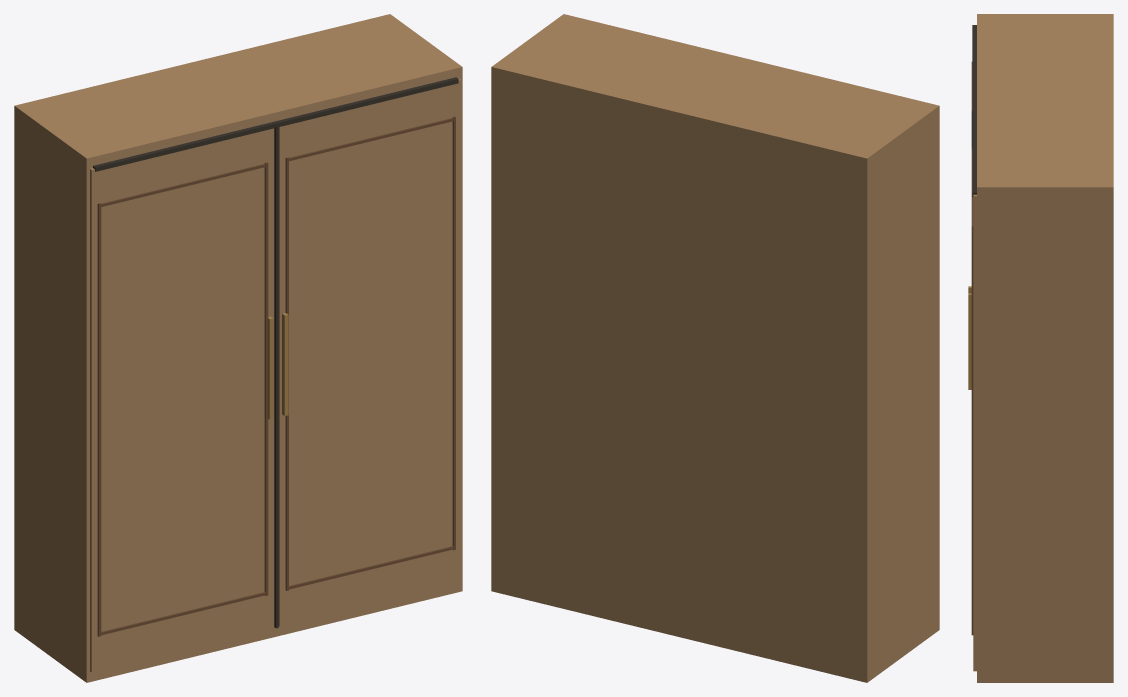
3 renders of one model, left to right at view 1: azimuth 30°, elevation 25°; view 2: azimuth 150°, elevation 25°; view 3: azimuth 270°, elevation 25°, orthographic. The views are drawn at different scales.
Visible parts, largest first — view 1: wardrobe; view 2: wardrobe; view 3: wardrobe.
Boxes of the visible parts, <box> form: wardrobe: <box>14,14,462,682</box>; wardrobe: <box>491,14,939,682</box>; wardrobe: <box>968,14,1113,682</box>.
Bounding box in the file's own units: 1.8 × 2.4 × 0.6375.
